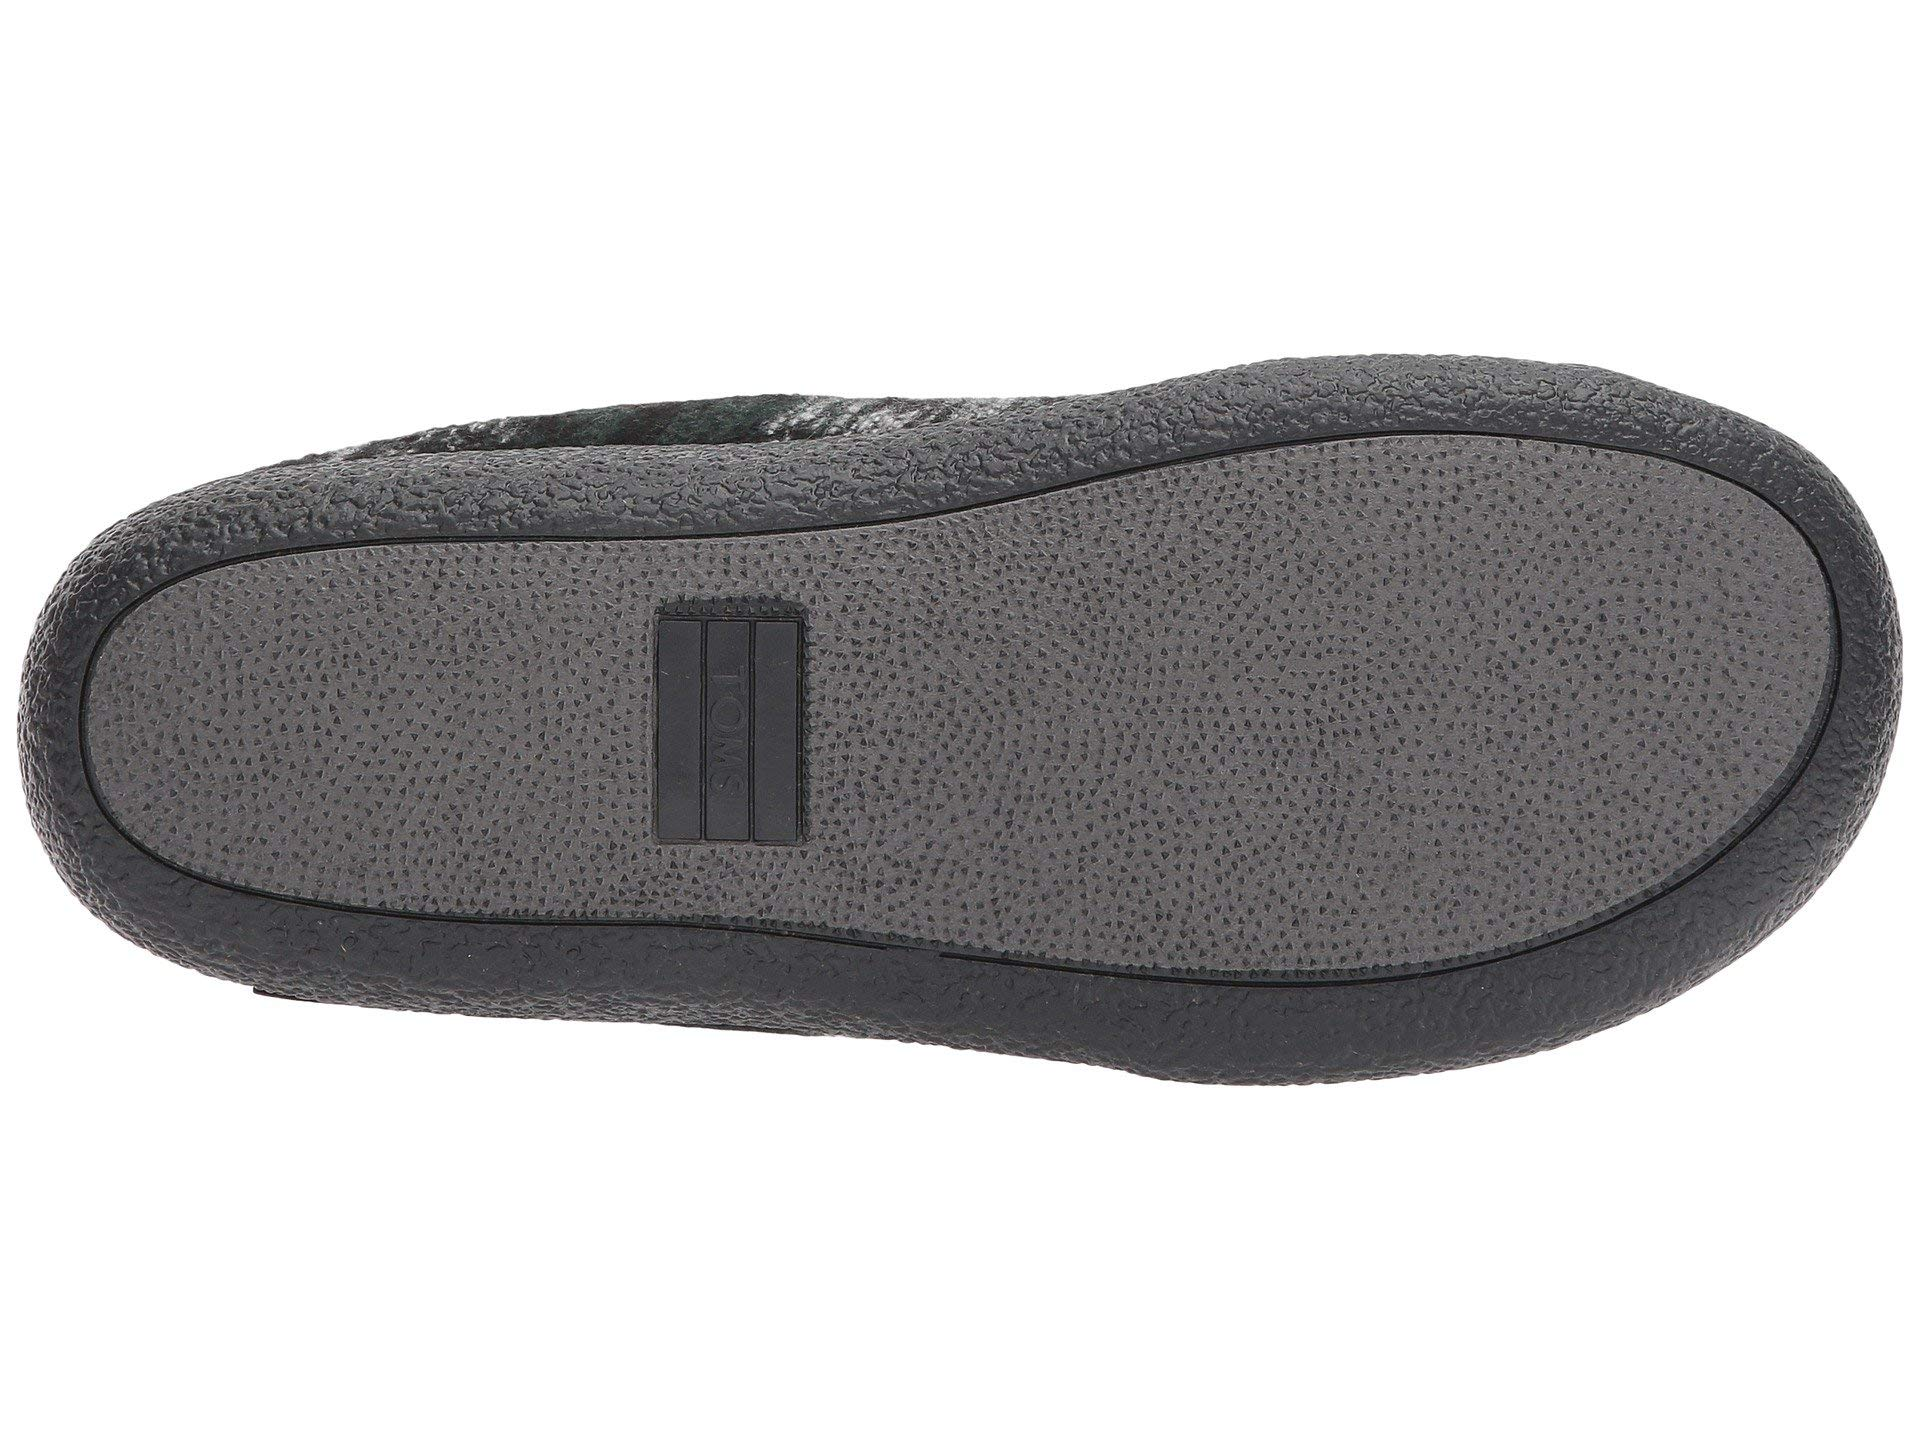line: (322, 908, 1081, 988), (655, 610, 810, 849)
other: (322, 908, 1081, 988)
quad: (655, 610, 810, 849)
text: (655, 610, 810, 849)
triangle: (1055, 519, 1642, 864)
